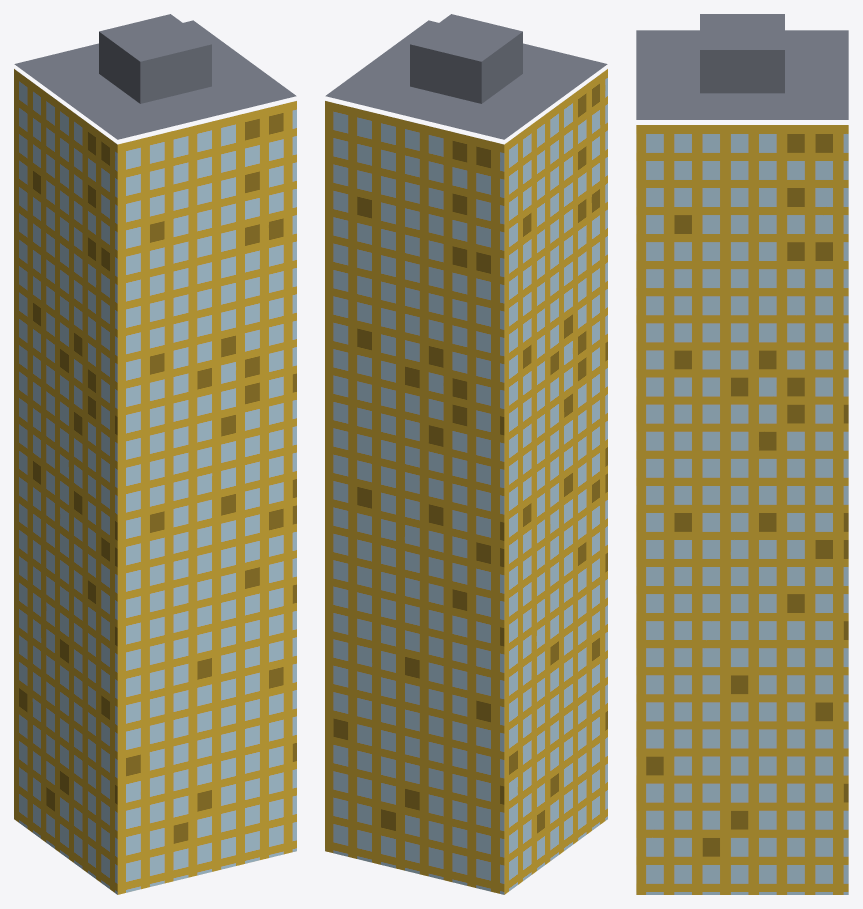
File: skyscraper_yellow.glb
3 views of the same model, side by side, from view 1: azimuth 30°, elevation 25°; view 2: azimuth 150°, elevation 25°; view 3: azimuth 270°, elevation 25° (orthographic). The views are drawn at different scales.
Visible parts, largest first — view 1: skyscraper_yellow; view 2: skyscraper_yellow; view 3: skyscraper_yellow.
Boxes of the visible parts, x1=… form: skyscraper_yellow: x1=14, y1=14, x2=296, y2=894; skyscraper_yellow: x1=325, y1=14, x2=607, y2=894; skyscraper_yellow: x1=636, y1=14, x2=848, y2=894.
Size of the model in its own units: 4 by 17 by 4.
2 materials, 1 textured.
